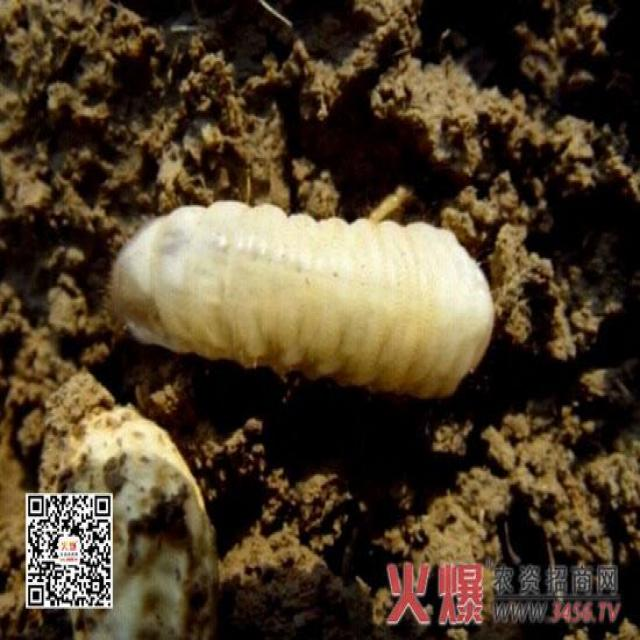Grub-Adult-: (80, 185, 508, 408)
